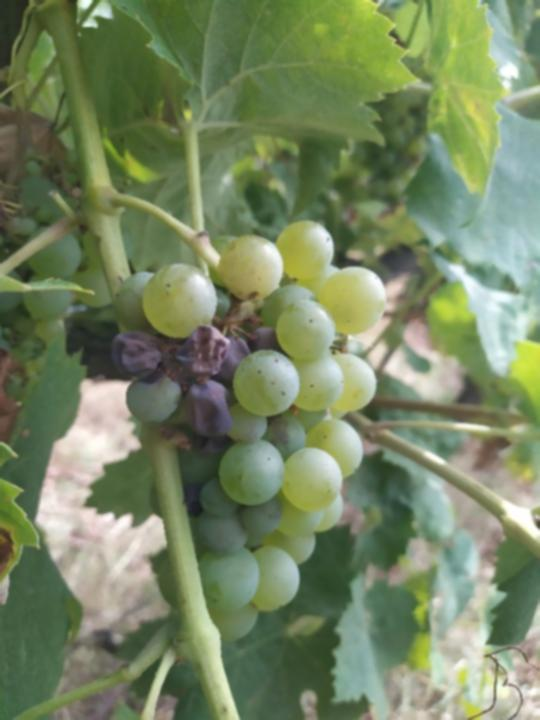grape: (111, 217, 389, 645)
